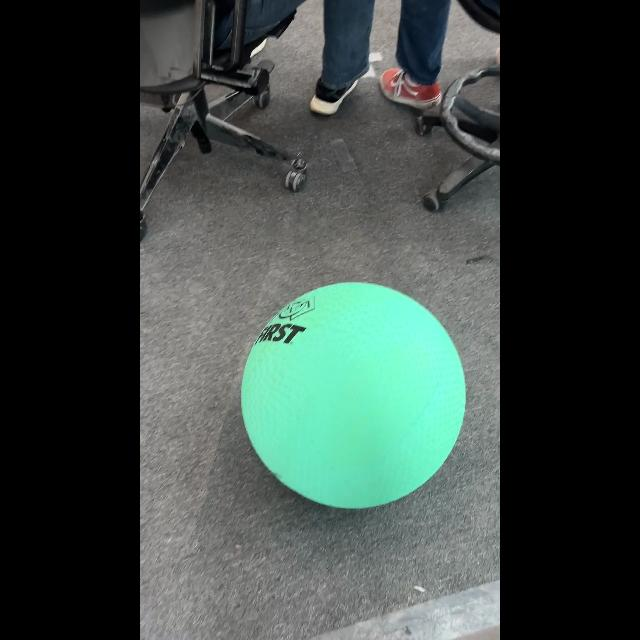ALGAE: (239, 280, 466, 510)
